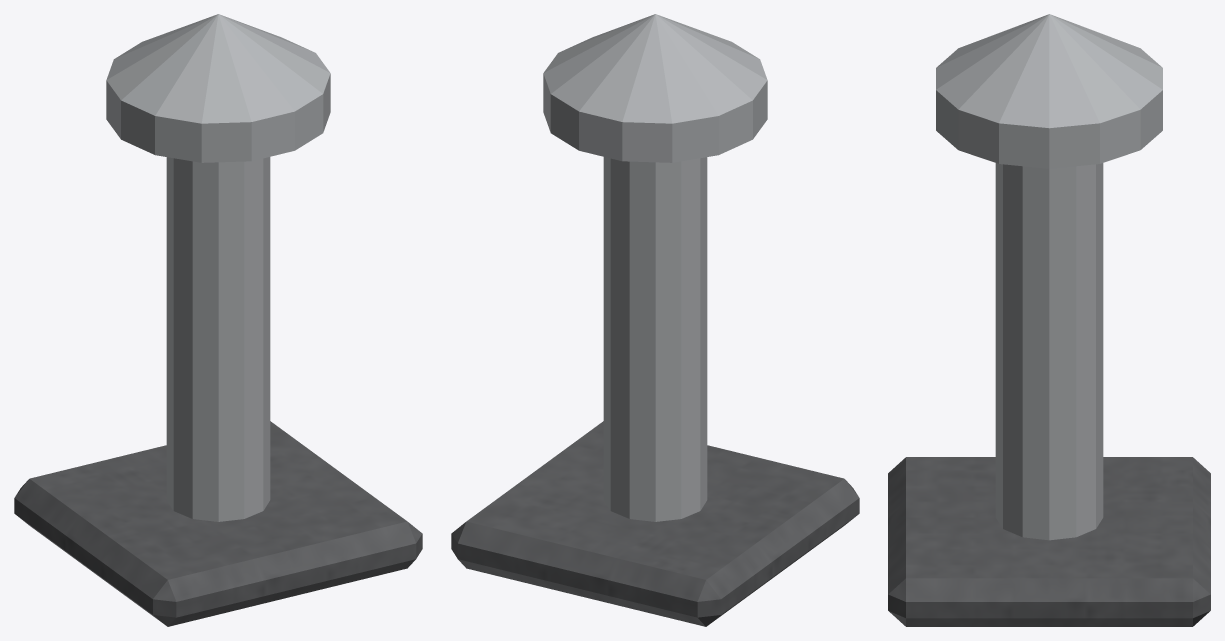
File: vent.glb
3 views of the same model, side by side, from view 1: azimuth 30°, elevation 25°; view 2: azimuth 150°, elevation 25°; view 3: azimuth 270°, elevation 25° (orthographic). The views are drawn at different scales.
Visible parts, largest first — view 1: vent_steel, vent_membrane; view 2: vent_steel, vent_membrane; view 3: vent_steel, vent_membrane.
Part boxes in pixels (<box>): vent_steel: <box>106,14,330,521</box>; vent_membrane: <box>14,421,422,626</box>; vent_steel: <box>543,14,767,521</box>; vent_membrane: <box>451,421,859,626</box>; vent_steel: <box>936,14,1162,540</box>; vent_membrane: <box>888,457,1210,626</box>.
Size of the model in its own units: 0.36 by 0.68 by 0.36.
Materials: 2 (1 with a texture image).
